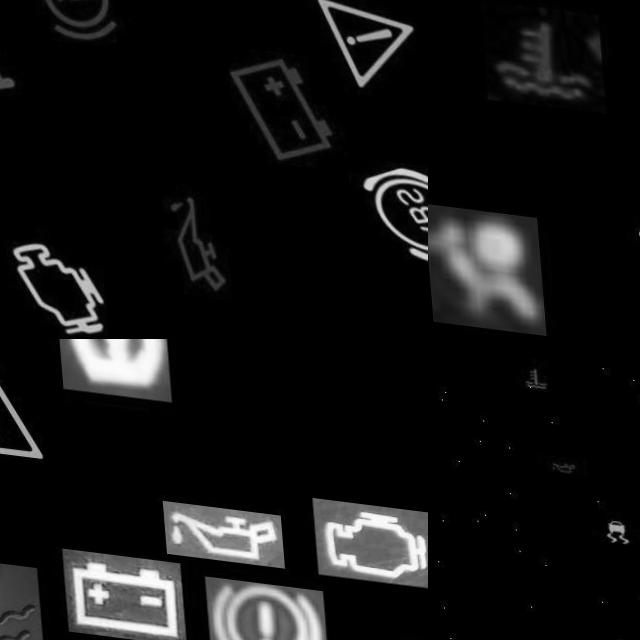Central Warning lamp: (0, 344, 52, 474)
Engine cooling system: (479, 0, 603, 102), (0, 552, 38, 640)
